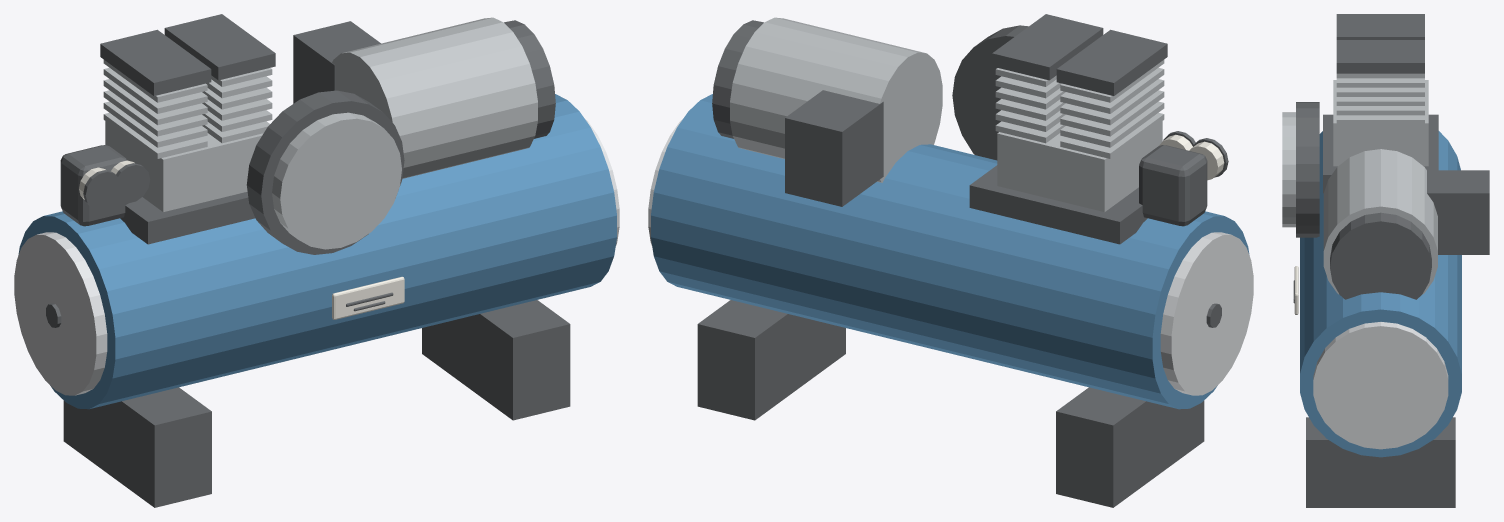
The model's file is compressor.glb.
3 renders of one model, left to right at view 1: azimuth 30°, elevation 25°; view 2: azimuth 150°, elevation 25°; view 3: azimuth 270°, elevation 25°, orthographic. The views are drawn at different scales.
Visible parts, largest first — view 1: car-repair-garage-and-mot-workshop-air-compressor; view 2: car-repair-garage-and-mot-workshop-air-compressor; view 3: car-repair-garage-and-mot-workshop-air-compressor.
Part boxes in pixels (box(x1,y1,x2,y2)): car-repair-garage-and-mot-workshop-air-compressor: box(14, 14, 619, 507); car-repair-garage-and-mot-workshop-air-compressor: box(648, 14, 1253, 507); car-repair-garage-and-mot-workshop-air-compressor: box(1282, 14, 1489, 507).
Size of the model in its own units: 1.47 by 1.09 by 0.6099.
